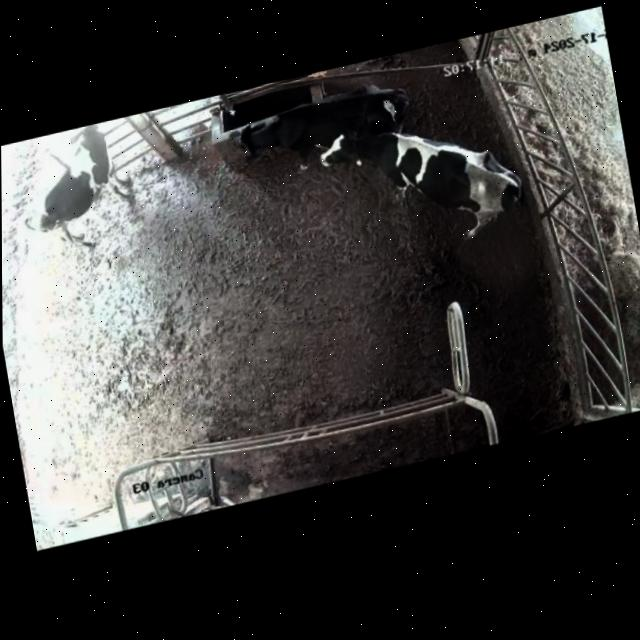stand: (307, 90, 544, 280), (221, 74, 418, 188), (14, 118, 132, 266)
